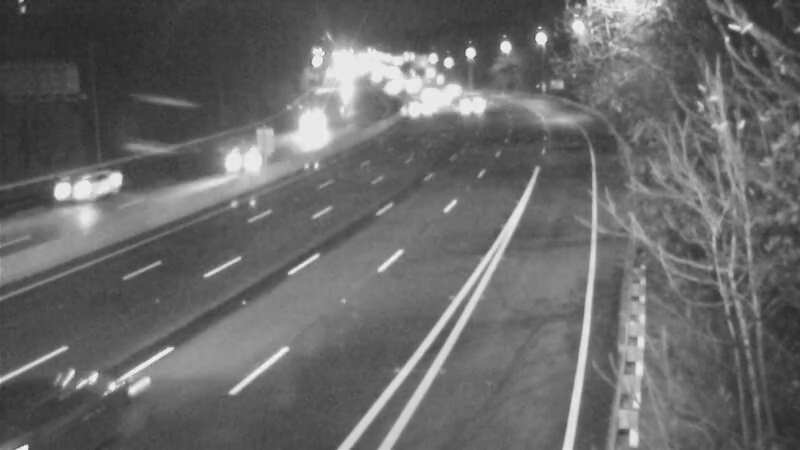vehicle: (1, 344, 109, 450), (197, 122, 277, 202), (29, 144, 109, 224), (429, 63, 479, 113), (360, 55, 410, 105), (402, 71, 452, 121), (413, 77, 463, 127), (443, 81, 493, 131), (283, 101, 333, 151)
